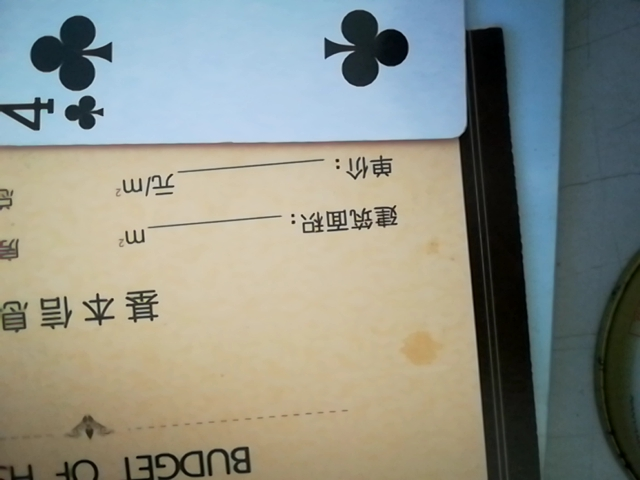mh 4: (0, 0, 474, 147)
